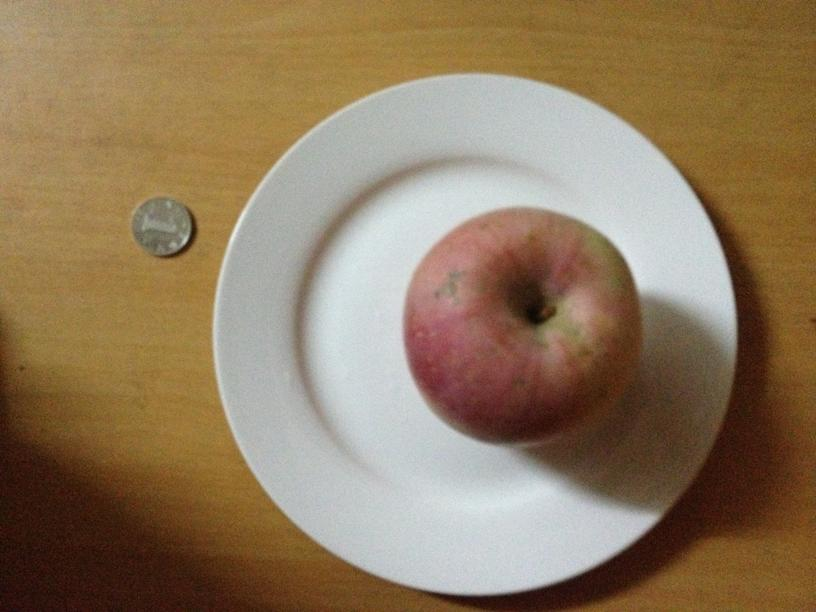apple: (406, 204, 642, 449)
coin: (128, 197, 192, 257)
